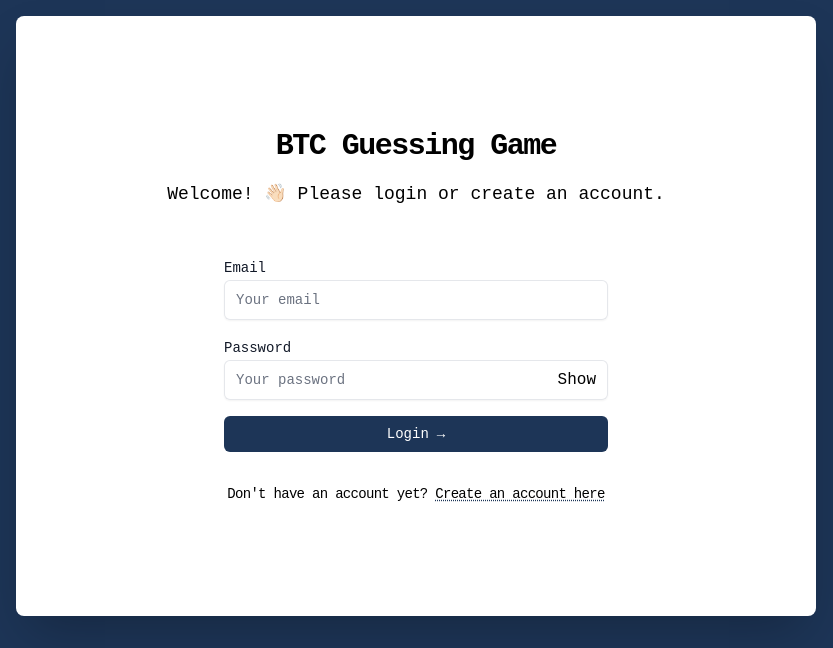
Test case: Login Component › Displays validation errors on invalid input
What coordinates should you click on to do the following:
click the button "Login →"
I would click on:
 (416, 434)
Its box is [224,416,608,452].
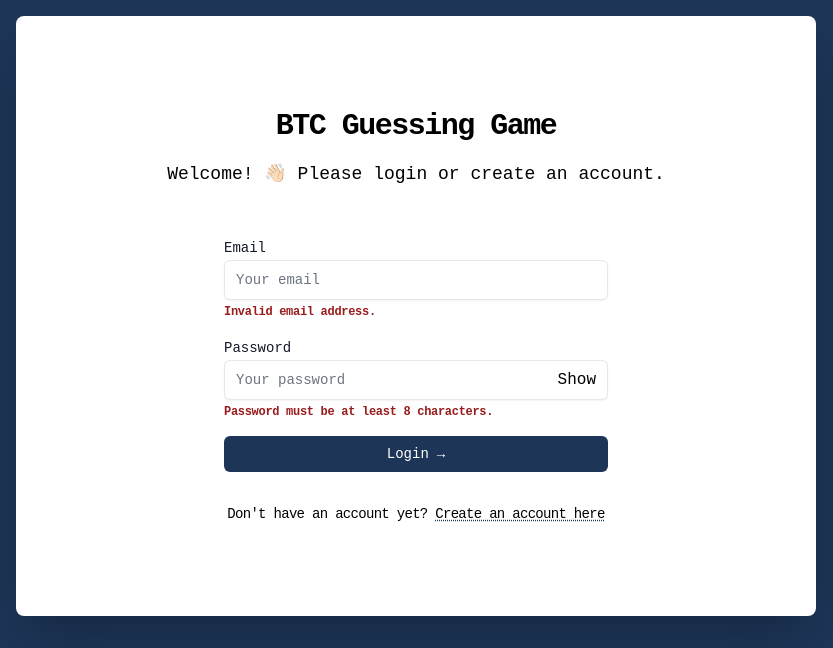
Expected: the text "Invalid email address." is shown, [224,305,376,319]
Expected: the text "Password must be at least 8 characters." is shown, [224,405,493,419]
